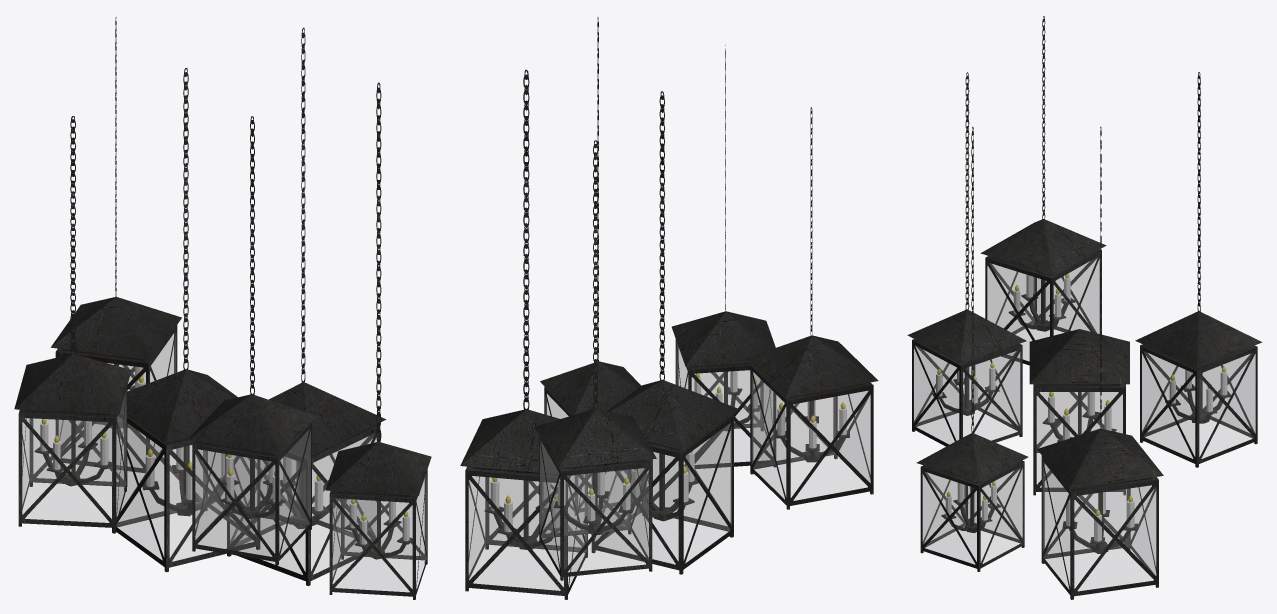
File: LampVIP.fbx
3 views of the same model, side by side, from view 1: azimuth 30°, elevation 25°; view 2: azimuth 150°, elevation 25°; view 3: azimuth 270°, elevation 25° (orthographic). The views are drawn at different scales.
Visible parts, largest first — view 1: LampVIP, LampVIP2, LampVIP1, LampVIP5, LampVIP4, LampVIP3; view 2: LampVIP2, LampVIP, LampVIP4, LampVIP3, LampVIP1, LampVIP5; view 3: LampVIP4, LampVIP3, LampVIP1, LampVIP5, LampVIP2, LampVIP.
Part boxes in pixels (x1,y1,x2,y2): LampVIP: [112, 68, 260, 572]; LampVIP2: [14, 116, 131, 531]; LampVIP1: [187, 116, 316, 565]; LampVIP5: [325, 82, 431, 599]; LampVIP4: [227, 27, 386, 585]; LampVIP3: [50, 17, 181, 472]; LampVIP2: [745, 107, 878, 509]; LampVIP: [591, 91, 739, 574]; LampVIP4: [460, 69, 587, 599]; LampVIP3: [535, 140, 656, 580]; LampVIP1: [671, 45, 776, 468]; LampVIP5: [540, 17, 652, 515]; LampVIP4: [1037, 126, 1163, 599]; LampVIP3: [1135, 72, 1262, 467]; LampVIP1: [907, 72, 1026, 446]; LampVIP5: [916, 127, 1028, 571]; LampVIP2: [980, 16, 1106, 365]; LampVIP: [1029, 329, 1129, 495].
Bounding box in the file's own units: 9.67 × 12.42 × 8.88.
4 materials, 1 textured.
